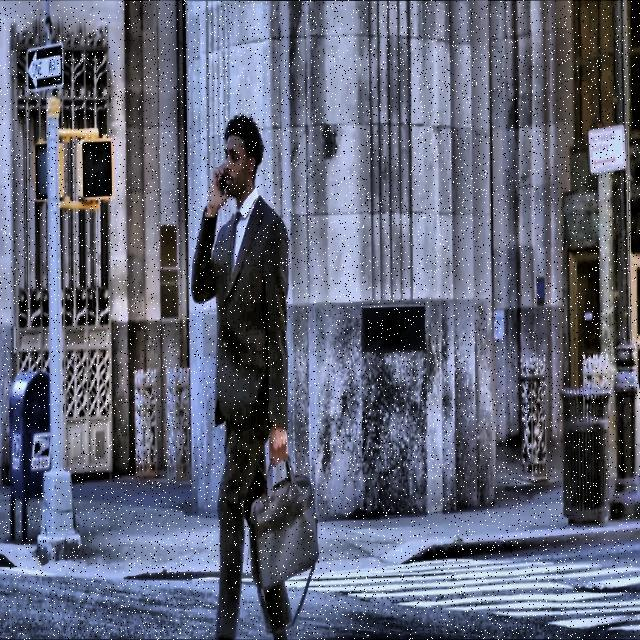Phone: (213, 166, 232, 200)
